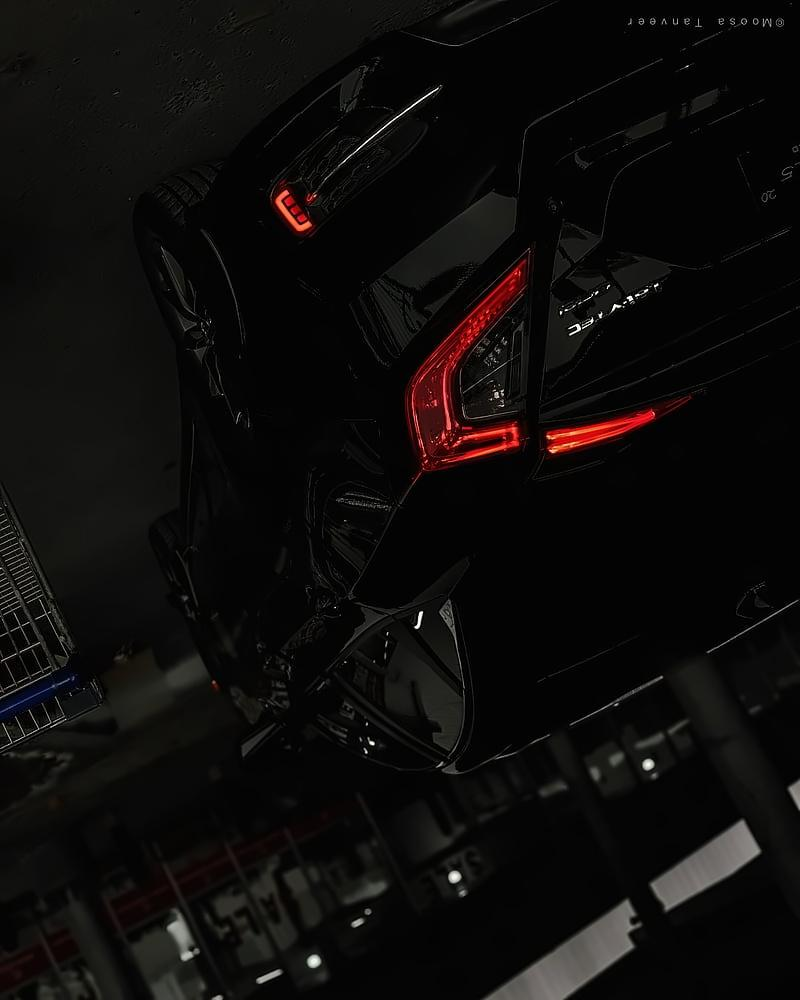Car boot: (492, 0, 800, 477)
Rear bumper: (174, 0, 602, 353)
Rear light - -R-: (394, 234, 722, 484)
